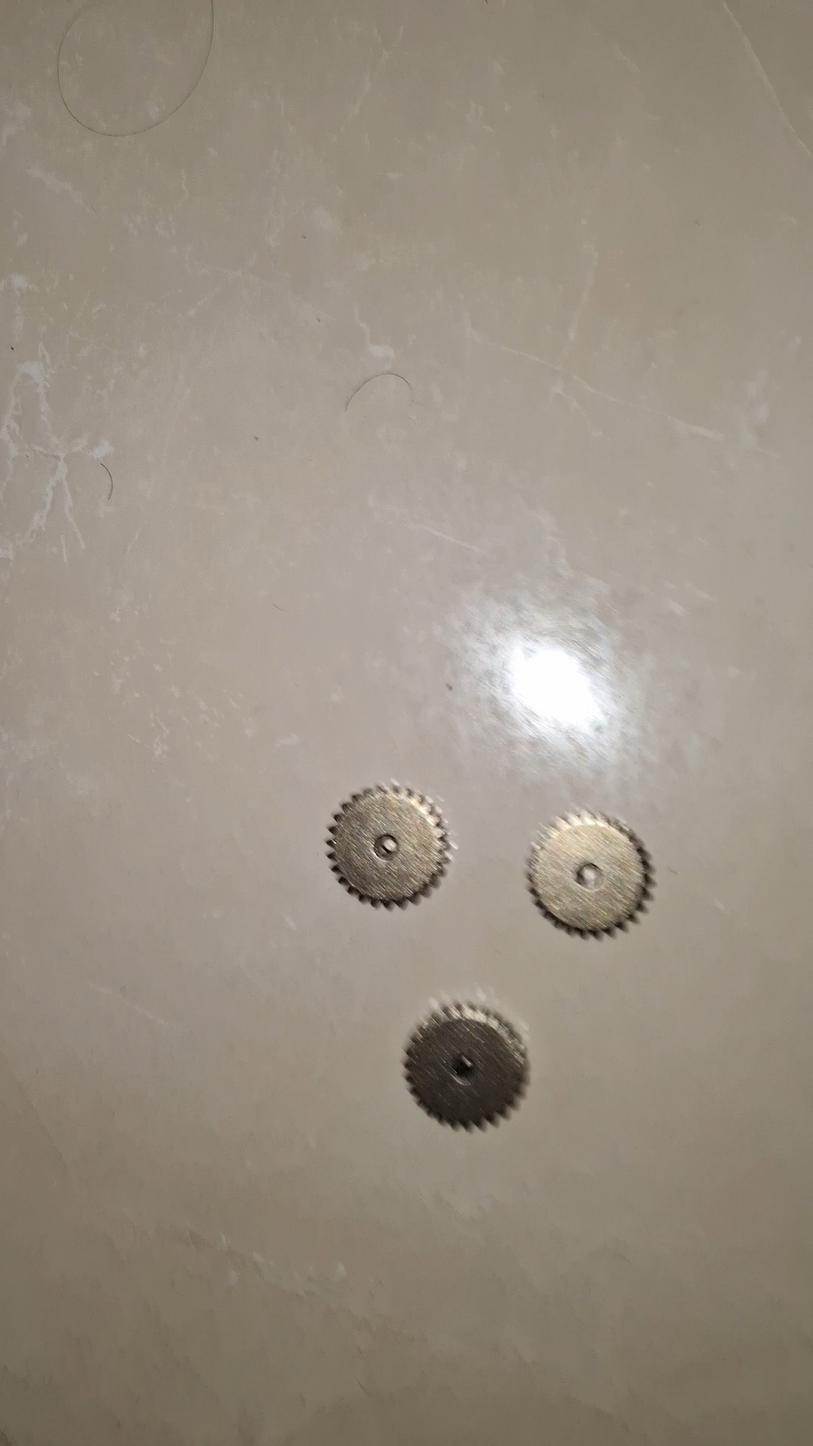spur gear: (404, 1003, 528, 1129), (528, 813, 653, 935), (327, 784, 449, 907)
